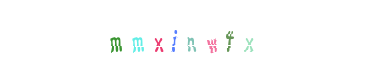4: (154, 0, 234, 80)
I: (134, 0, 214, 80)
M: (97, 0, 177, 80), (116, 0, 196, 80)
N: (138, 0, 218, 80)
W: (145, 0, 225, 80)
X: (118, 0, 198, 80), (159, 0, 239, 80)
